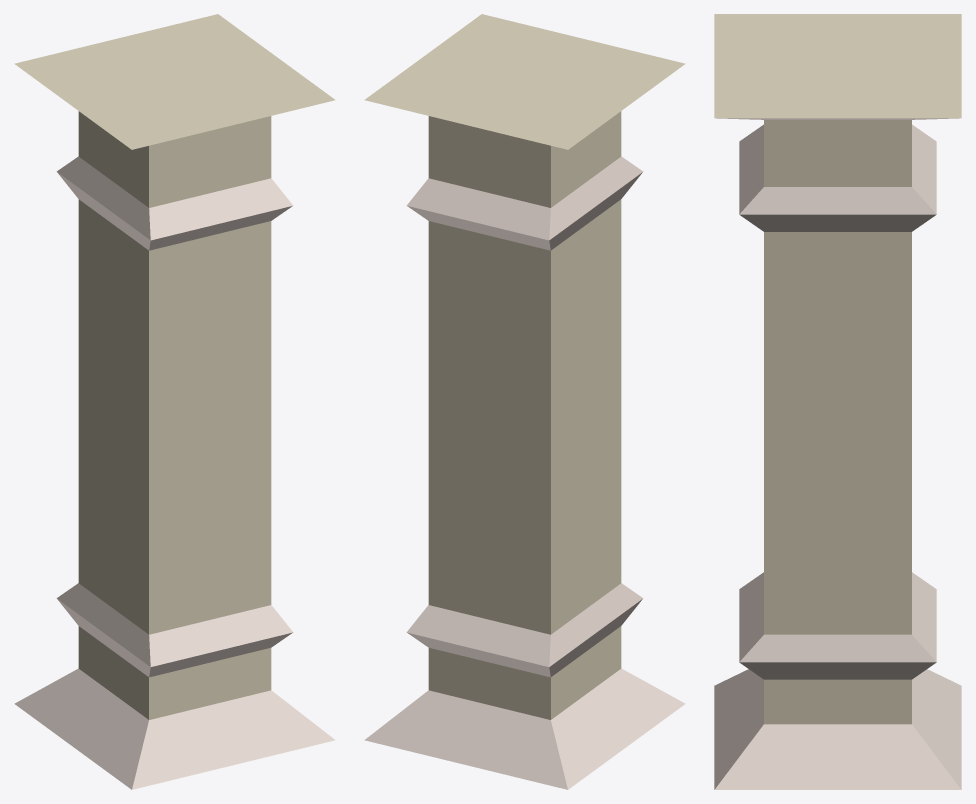
The model's file is roman_wall_column_2.fbx.
3 views of the same model, side by side, from view 1: azimuth 30°, elevation 25°; view 2: azimuth 150°, elevation 25°; view 3: azimuth 270°, elevation 25° (orthographic). The views are drawn at different scales.
Parts seen in each view (by area): view 1: Cube.013; view 2: Cube.013; view 3: Cube.013.
Boxes of the visible parts, left/top/right/bottom form: Cube.013: left=14, top=14, right=335, bottom=789; Cube.013: left=364, top=14, right=685, bottom=789; Cube.013: left=714, top=14, right=961, bottom=789.
Size of the model in its own units: 1 by 3 by 1.
